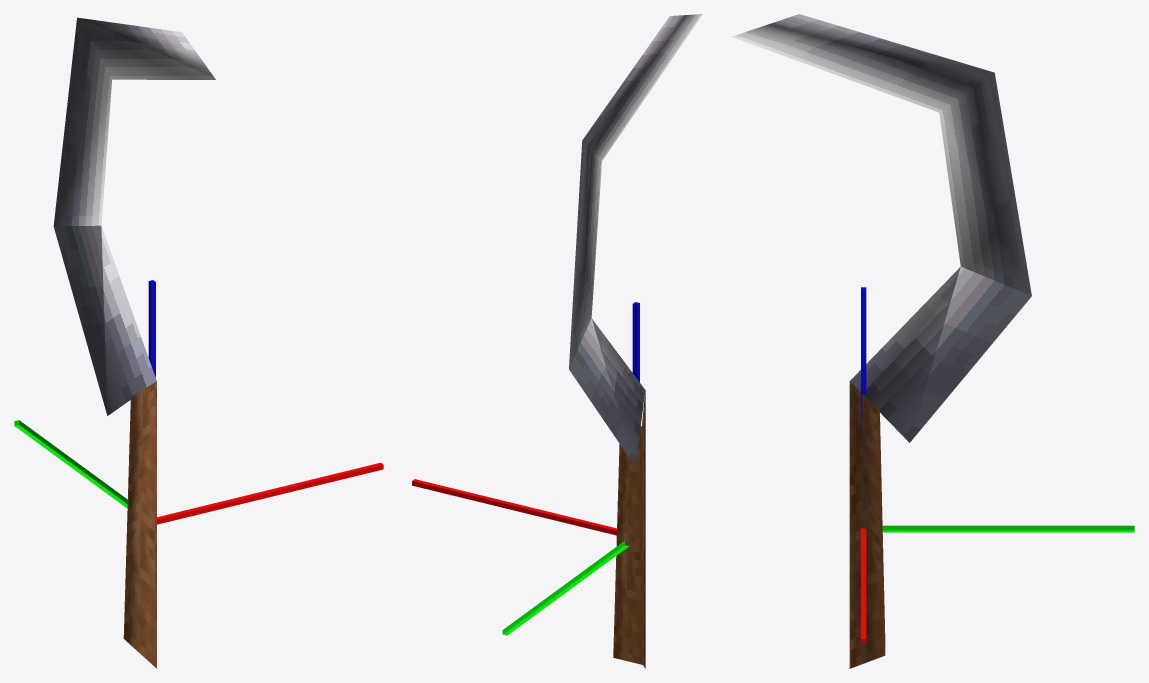
The model's file is scythe.glb.
3 views of the same model, side by side, from view 1: azimuth 30°, elevation 25°; view 2: azimuth 150°, elevation 25°; view 3: azimuth 270°, elevation 25° (orthographic). The views are drawn at different scales.
Parts seen in each view (by area): view 1: attachments a scytheModel, Dummy_hotspot; view 2: attachments a scytheModel, Dummy_hotspot; view 3: attachments a scytheModel, Dummy_hotspot.
Part boxes in pixels (box(x1,y1,x2,y2)): attachments a scytheModel: box(53, 17, 215, 668); Dummy_hotspot: box(14, 280, 383, 524); attachments a scytheModel: box(569, 14, 702, 668); Dummy_hotspot: box(412, 302, 639, 635); attachments a scytheModel: box(732, 14, 1031, 668); Dummy_hotspot: box(861, 287, 1134, 643).
Size of the model in its own units: 0.271 by 0.6738 by 0.376.
2 materials, 1 textured.
